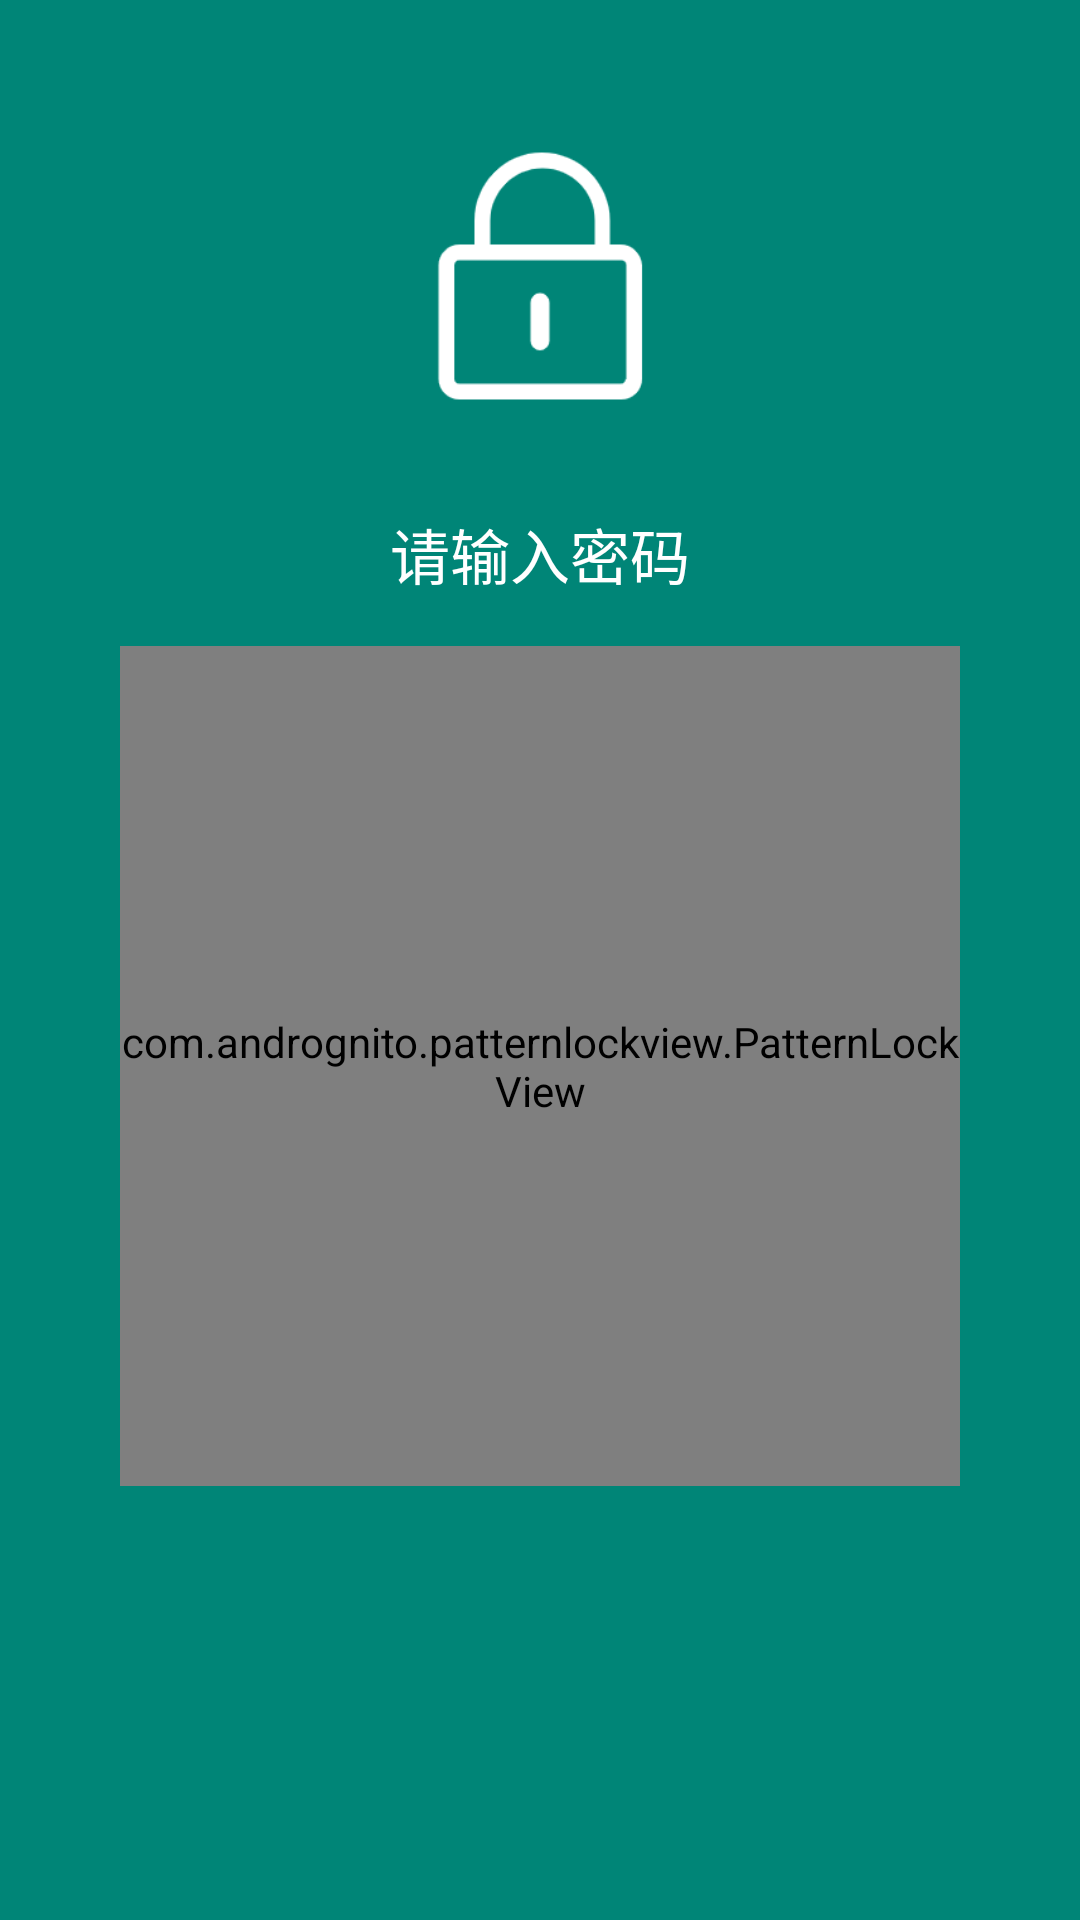

Icon bounding boxes for this 1080px x 1920px phone screenshot, format (x1, y1, x2, y2):
password: (438, 152, 643, 400)
